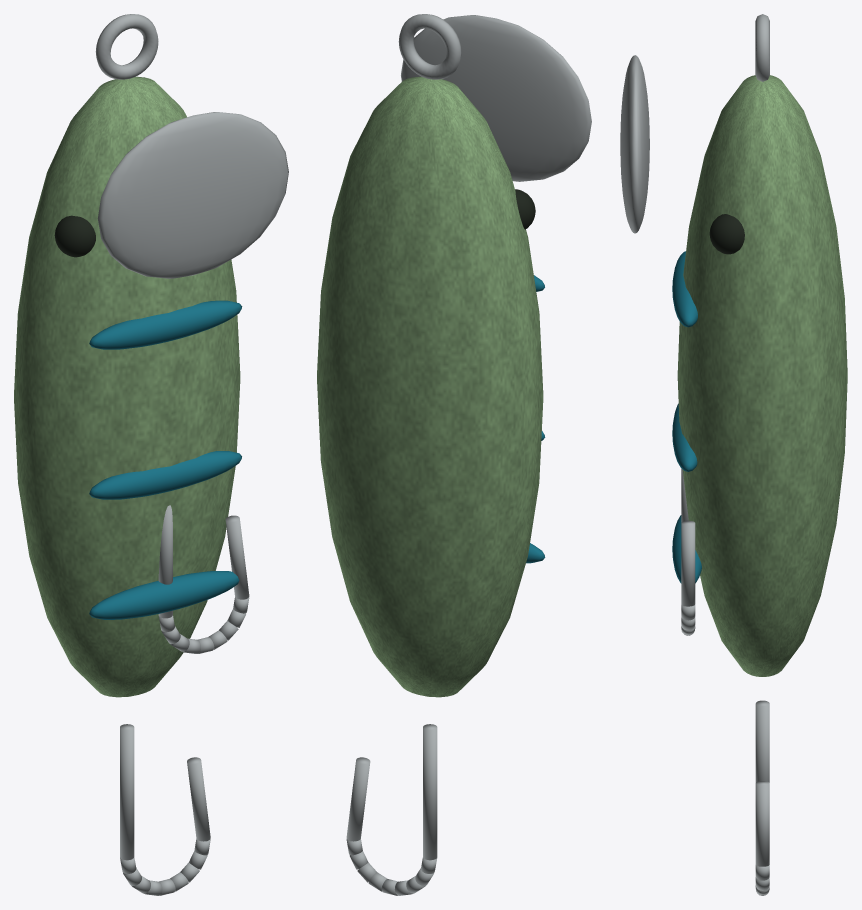
The model's file is diving_minnow.glb.
The picture shows the model from 3 angles, left to right: view 1: azimuth 30°, elevation 25°; view 2: azimuth 150°, elevation 25°; view 3: azimuth 270°, elevation 25°; orthographic projection. The views are drawn at different scales.
Parts seen in each view (by area): view 1: Tie eye.007; view 2: Tie eye.007; view 3: Tie eye.007.
Part boxes in pixels (box(x1,y1,x2,y2)): Tie eye.007: box(14, 14, 288, 895); Tie eye.007: box(317, 14, 591, 895); Tie eye.007: box(620, 14, 847, 895).
Size of the model in its own units: 0.022 by 0.0888 by 0.0214.
Materials: 4 (1 with a texture image).
